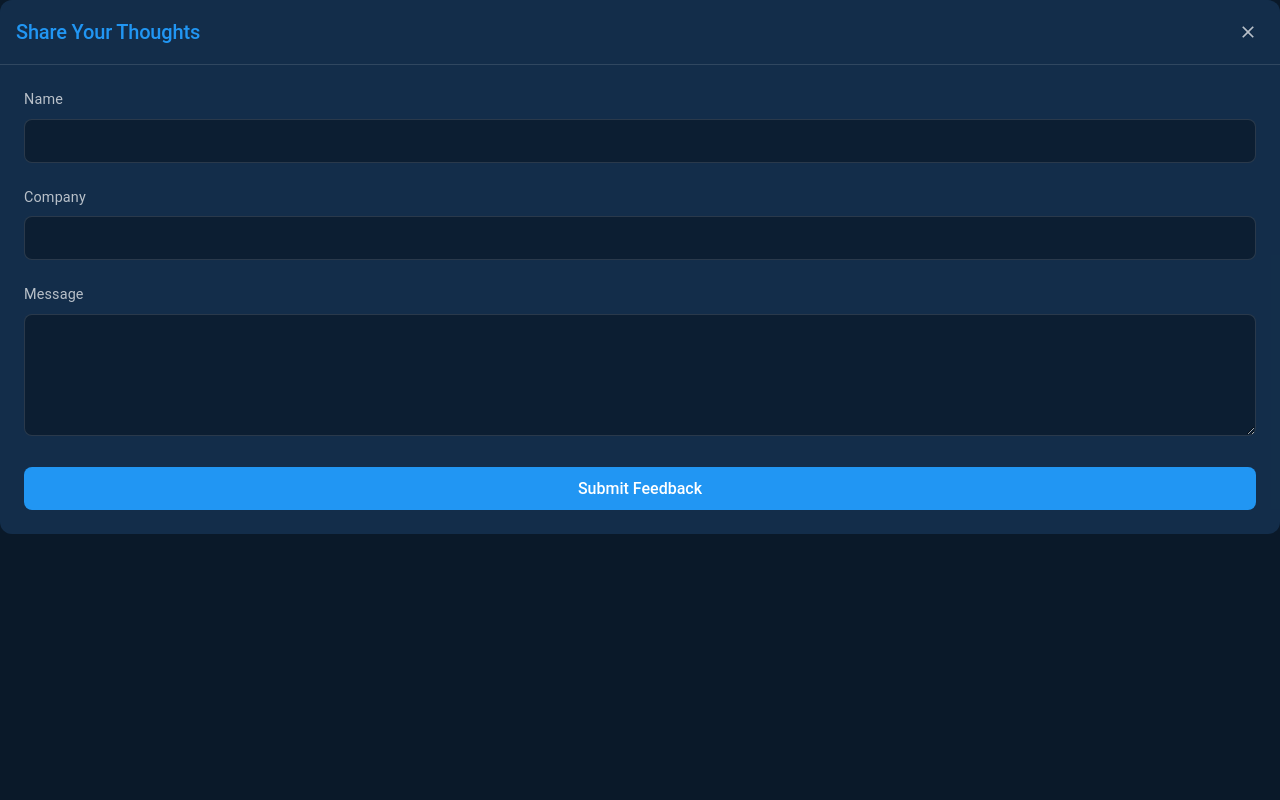
Test: FeedbackForm › handles submission error
Step 1. Type "John Doe" into the field labelled "Name" → (640, 141), box [24,119,1256,163]
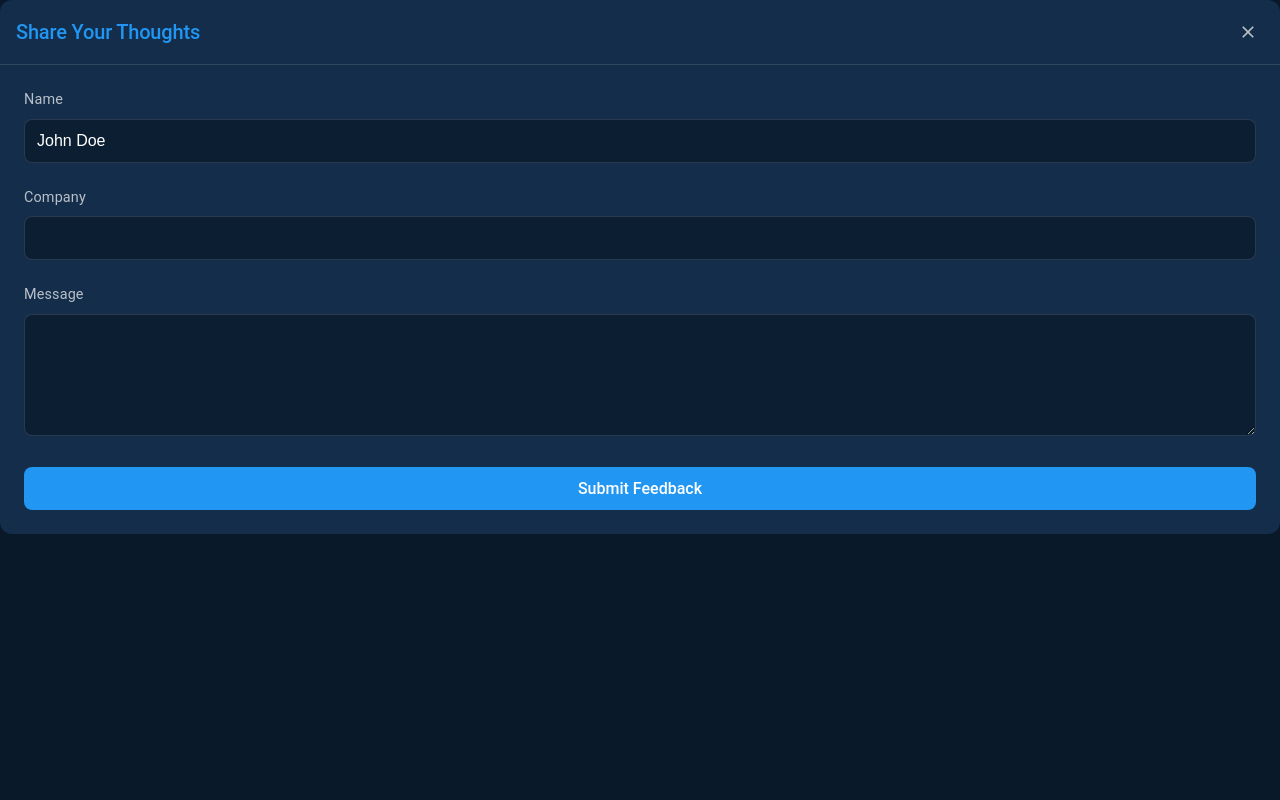
Step 2. Type "Test Company" into the field labelled "Company" → (640, 238), box [24,216,1256,260]
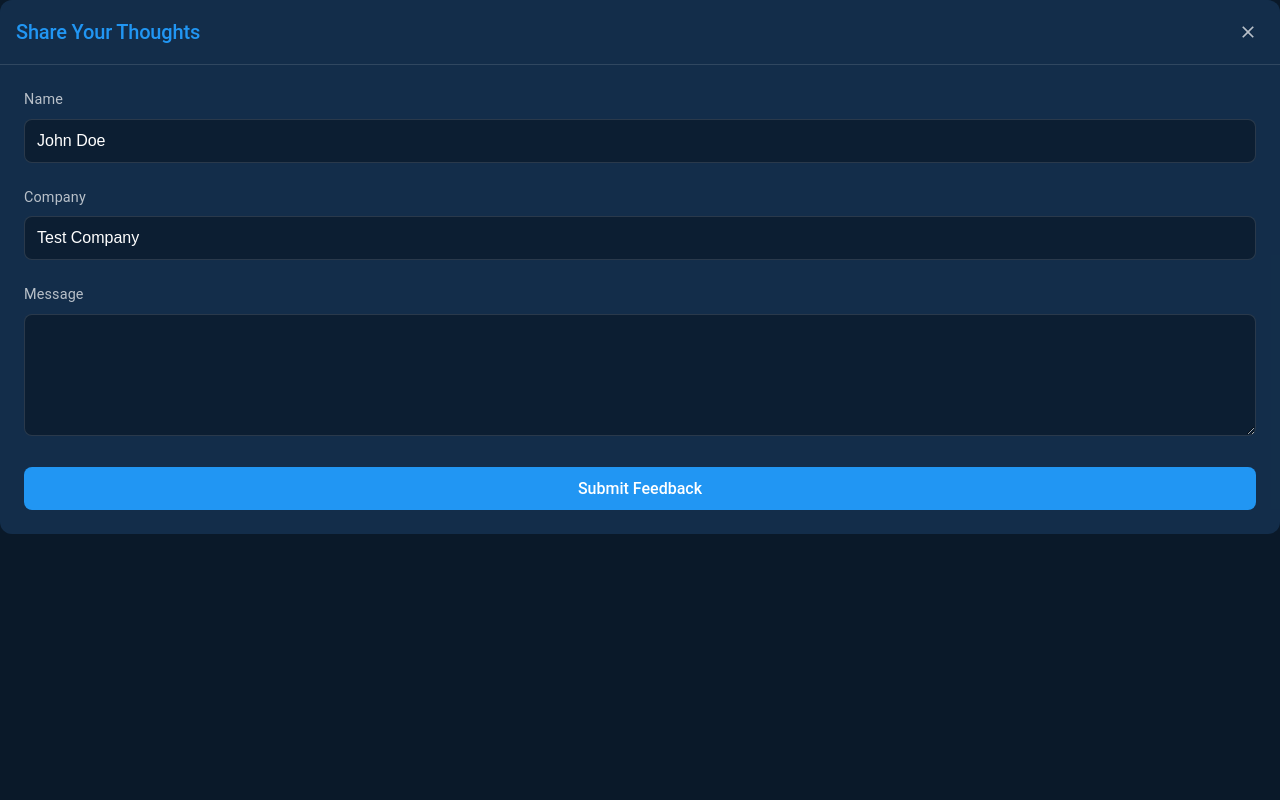
Step 3. Type "Test message" into the text box labelled "Message" → (640, 375), box [24,314,1256,436]
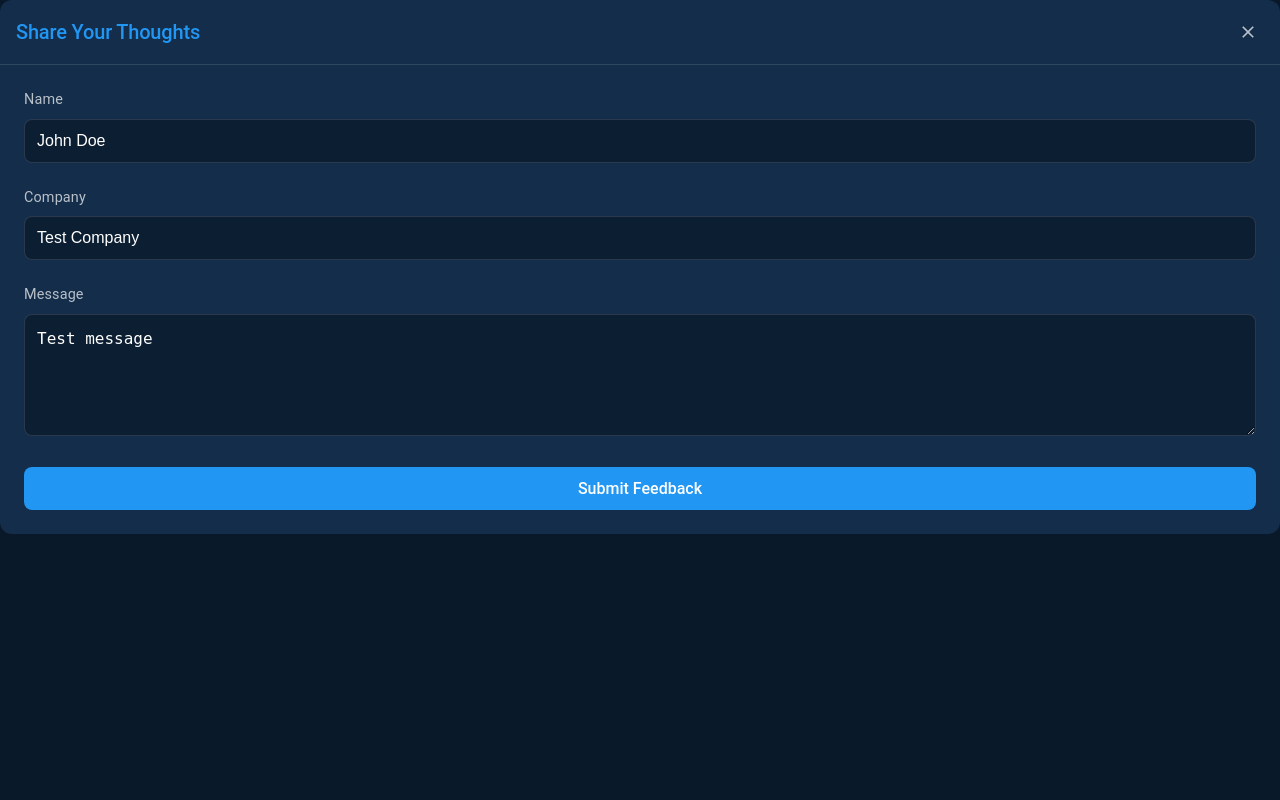
Step 4. Click the button "Submit Feedback" → (640, 488), box [24,467,1256,510]
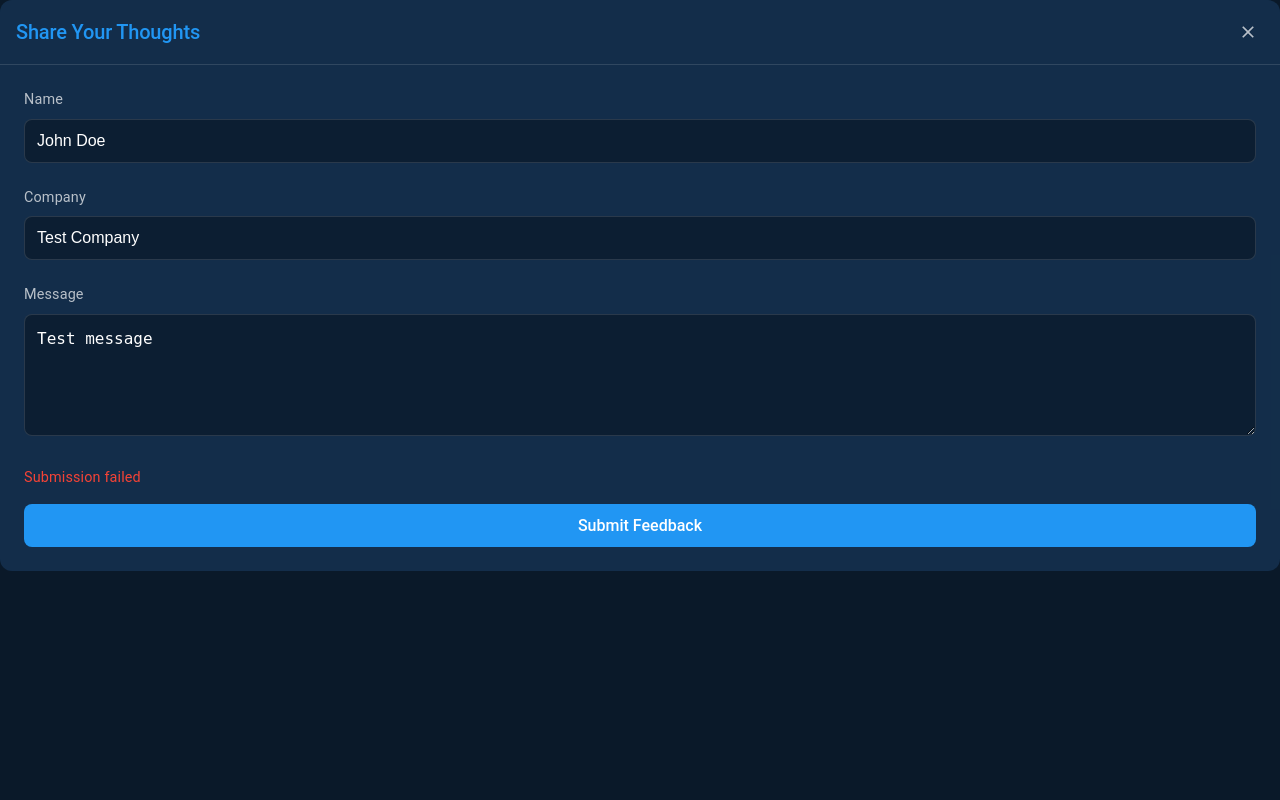
Expected: the text "Submission failed" is shown, [24,469,141,486]
